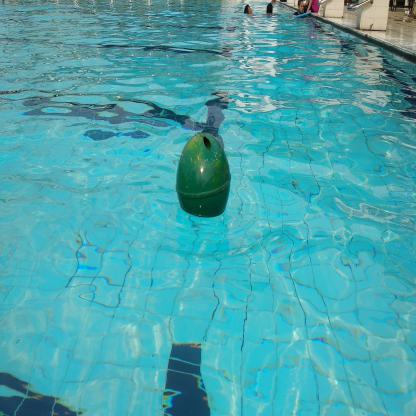green_buoy: (176, 133, 230, 222)
